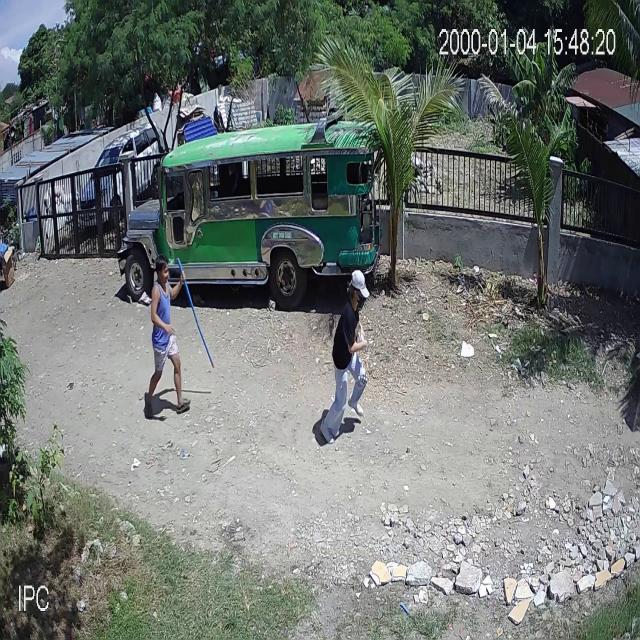running: (142, 259, 215, 419), (318, 272, 371, 441)
